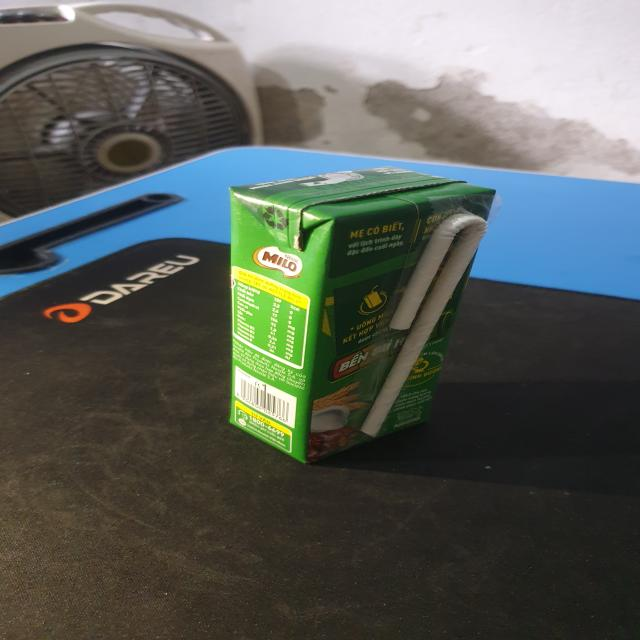Milo: (227, 164, 502, 469)
